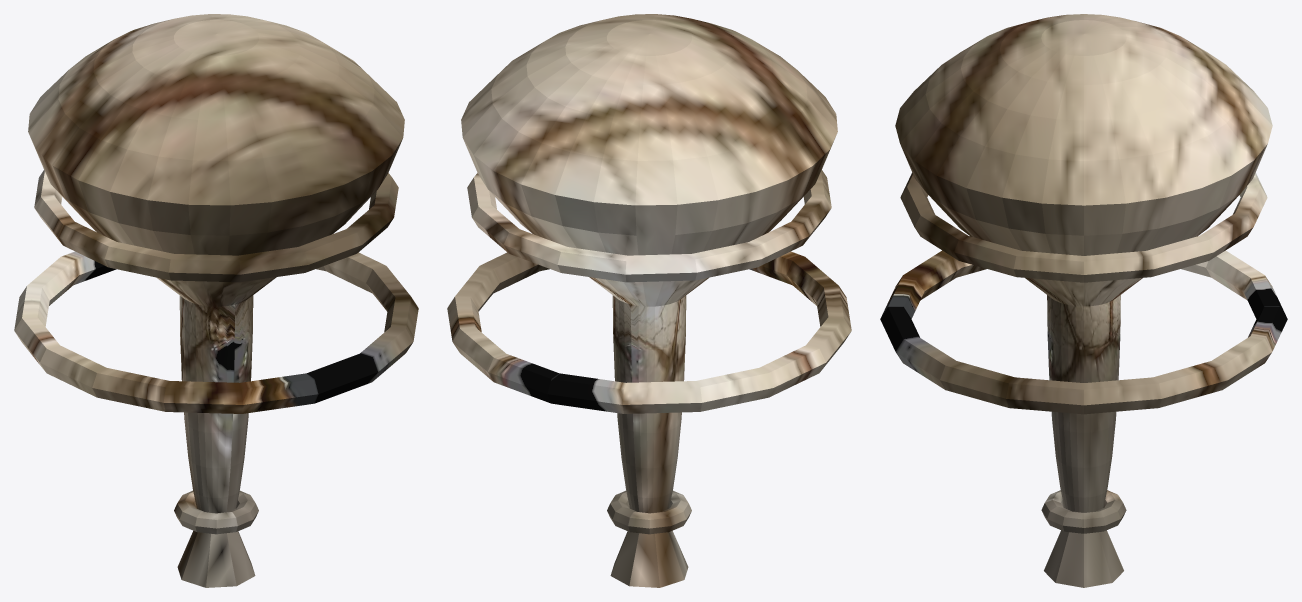
File: bloon_ceramic.glb
3 renders of one model, left to right at view 1: azimuth 30°, elevation 25°; view 2: azimuth 150°, elevation 25°; view 3: azimuth 270°, elevation 25°, orthographic.
Parts seen in each view (by area): view 1: bloon_ceramic; view 2: bloon_ceramic; view 3: bloon_ceramic.
Part boxes in pixels (bbox=[...]): bloon_ceramic: bbox=[14, 14, 418, 587]; bloon_ceramic: bbox=[447, 14, 851, 587]; bloon_ceramic: bbox=[880, 14, 1287, 587].
Size of the model in its own units: 0.8601 by 1.25 by 0.8601.
1 material, 1 textured.
